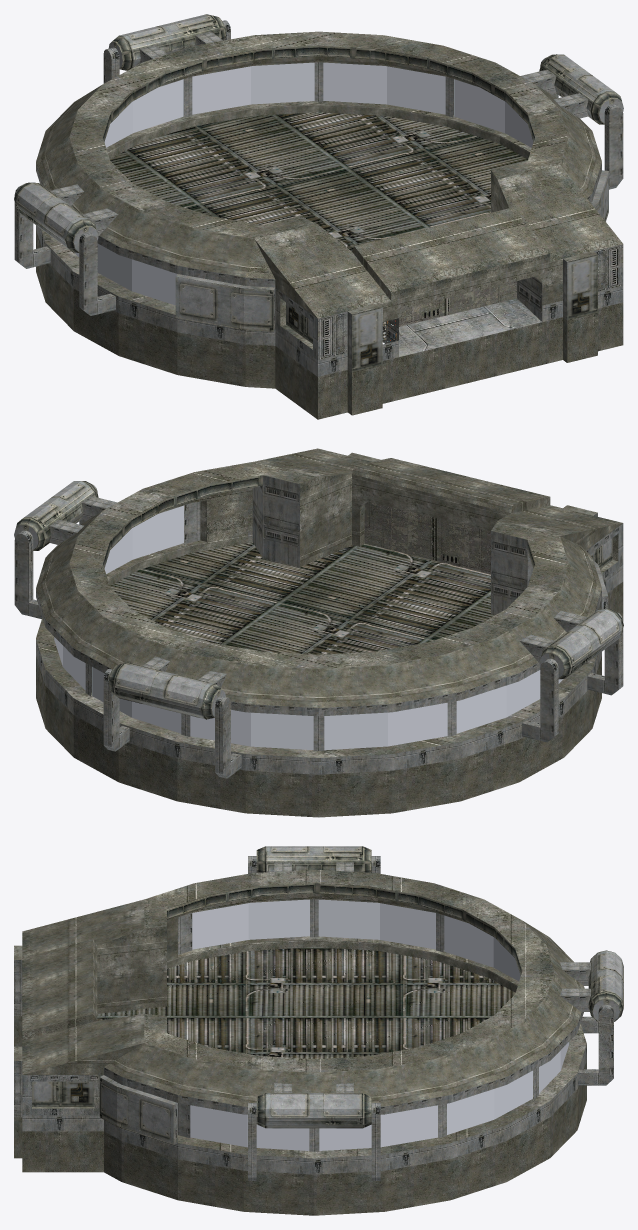
The model's file is ins_all_craftable_creature_farm_s01_u1_l0.fbx.
3 views of the same model, one above another, from view 1: azimuth 30°, elevation 25°; view 2: azimuth 150°, elevation 25°; view 3: azimuth 270°, elevation 25° (orthographic). The views are drawn at different scales.
Visible parts, largest first — view 1: mesh_node; view 2: mesh_node; view 3: mesh_node.
Boxes of the visible parts, x1,y1,x2,y2 form: mesh_node: [14, 14, 623, 419]; mesh_node: [14, 448, 623, 817]; mesh_node: [14, 846, 623, 1215].
Bounding box in the file's own units: 29.75 × 6.86 × 29.3.
